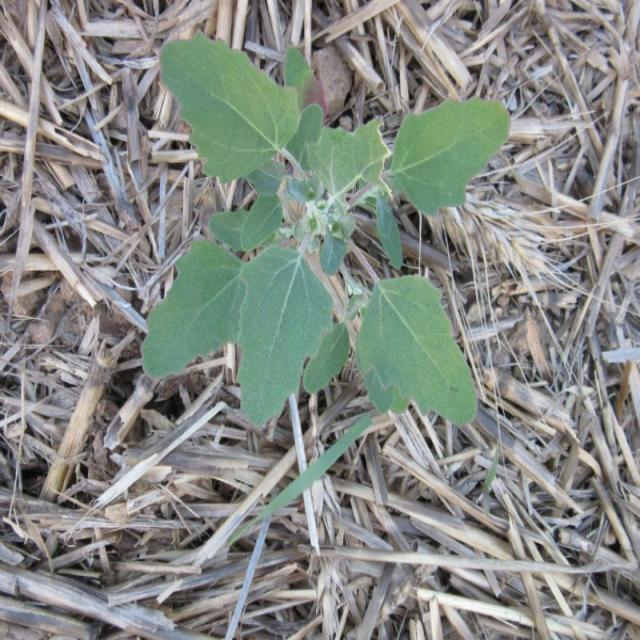ca: (143, 31, 509, 429)
